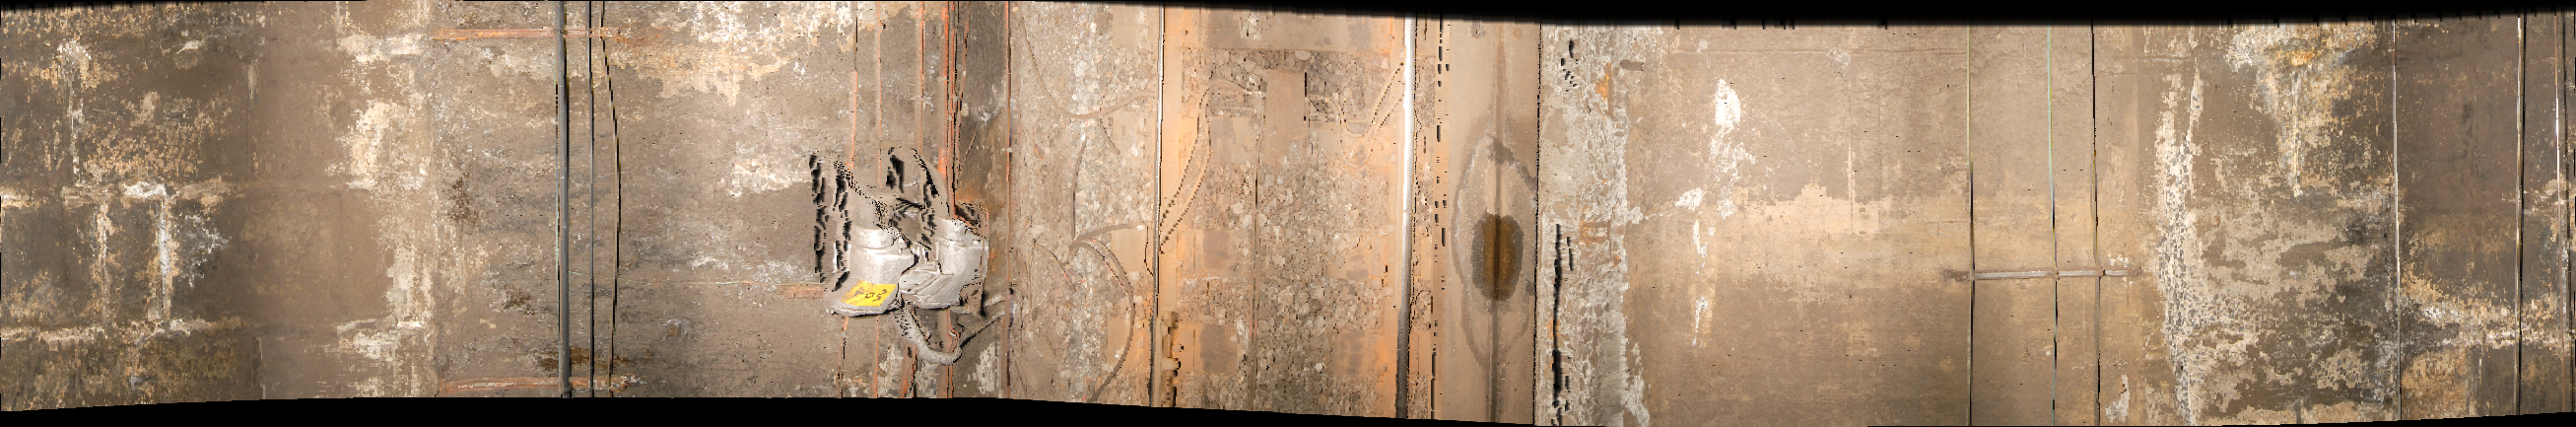pipes: (554, 2, 629, 414), (1962, 31, 1988, 425), (2090, 30, 2109, 427), (2514, 20, 2528, 427)
tracks: (1009, 5, 1541, 427)
